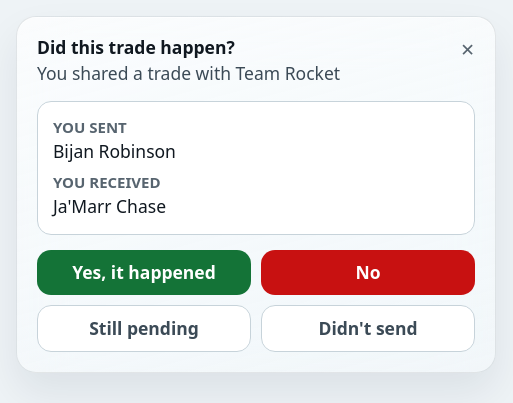
Test: TradeOutcomePrompt › moves to the next pending outcome after an answer
Click the button "Yes, it happened" at (144, 272), box [37,250,251,295]
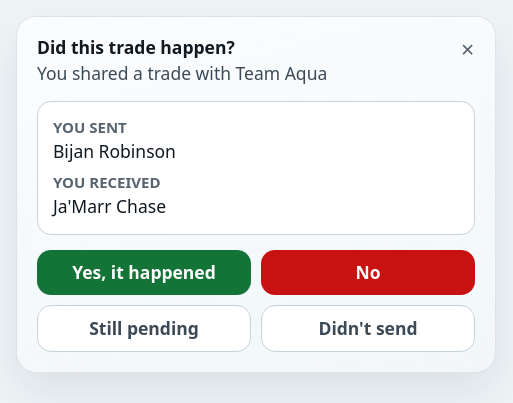
Expected: the text "You shared a trade with Team Aqua" is shown, [37,60,327,86]
